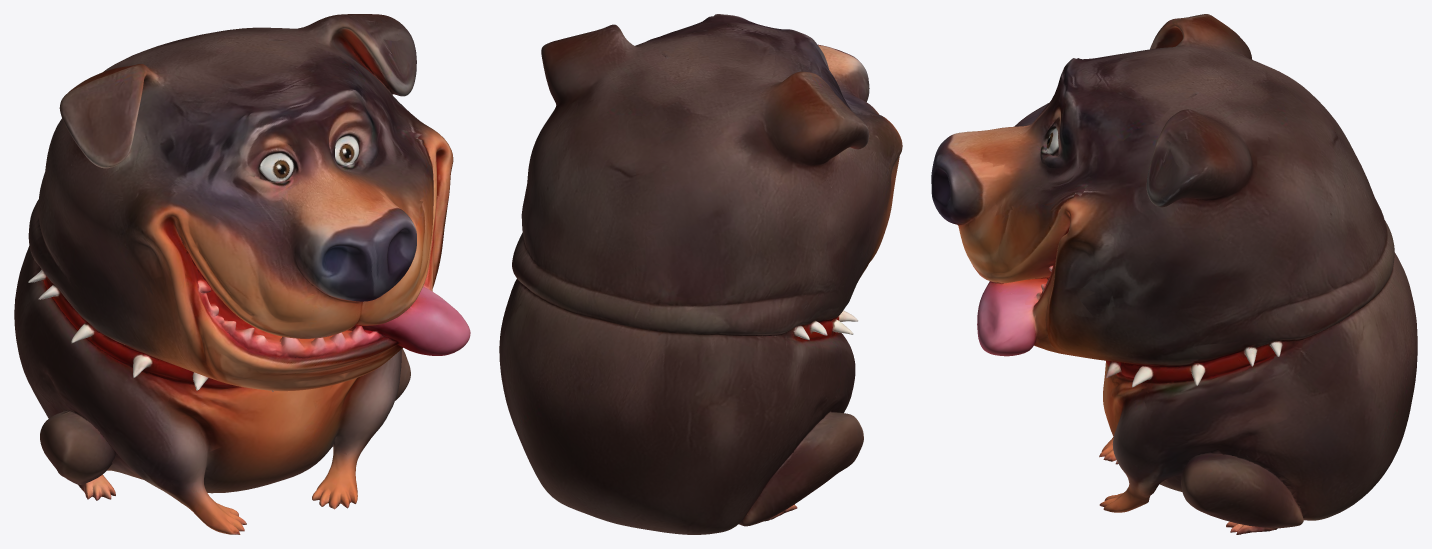
File: dog.glb
3 renders of one model, left to right at view 1: azimuth 30°, elevation 25°; view 2: azimuth 150°, elevation 25°; view 3: azimuth 270°, elevation 25°, orthographic. The views are drawn at different scales.
Parts seen in each view (by area): view 1: dog_Head, dog_Body, dog_ArmL, dog_LegL, dog_LegR, dog_ArmR; view 2: dog_Head, dog_Body, dog_ArmL, dog_LegL, dog_LegR; view 3: dog_Head, dog_ArmR, dog_Body, dog_LegR.
Boxes of the visible parts, bbox=[...] form: dog_Head: bbox=[20, 14, 470, 385]; dog_Body: bbox=[14, 272, 402, 497]; dog_ArmL: bbox=[14, 323, 175, 488]; dog_LegL: bbox=[66, 464, 273, 534]; dog_LegR: bbox=[260, 450, 362, 509]; dog_ArmR: bbox=[379, 348, 410, 428]; dog_Head: bbox=[504, 14, 902, 390]; dog_Body: bbox=[499, 310, 858, 519]; dog_ArmL: bbox=[703, 352, 863, 515]; dog_LegL: bbox=[601, 478, 831, 534]; dog_LegR: bbox=[536, 475, 618, 524]; dog_Head: bbox=[931, 14, 1413, 377]; dog_ArmR: bbox=[1113, 393, 1383, 516]; dog_Body: bbox=[1035, 302, 1417, 493]; dog_LegR: bbox=[1099, 469, 1387, 534].
Size of the model in its own units: 1.42 by 1.71 by 1.82.
Materials: 1 (1 with a texture image).
